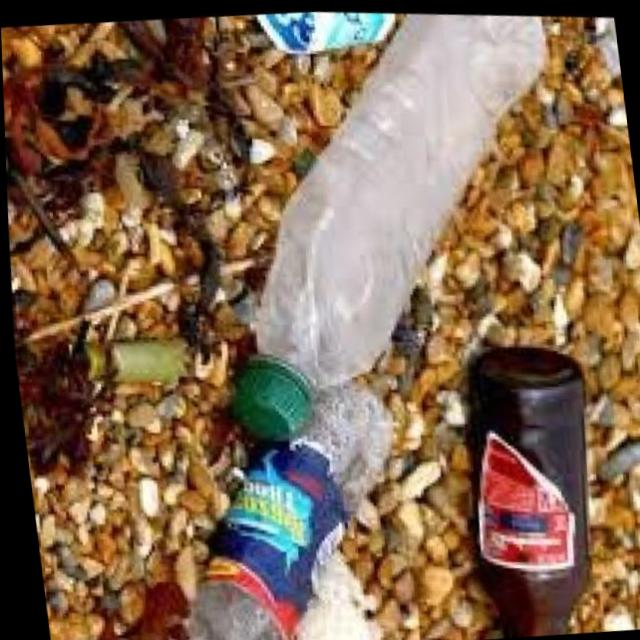foam box: (434, 331, 615, 640)
leaf: (176, 3, 612, 483), (144, 357, 430, 640)
